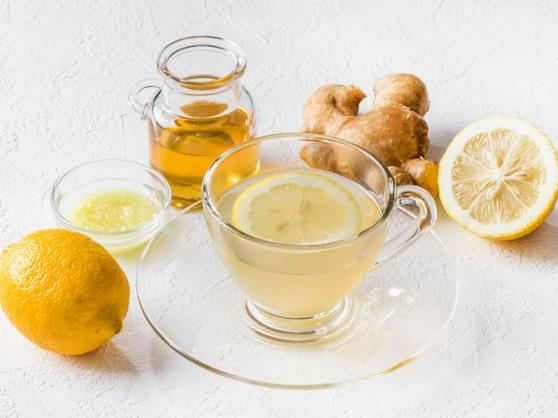lemon: (2, 229, 135, 359)
